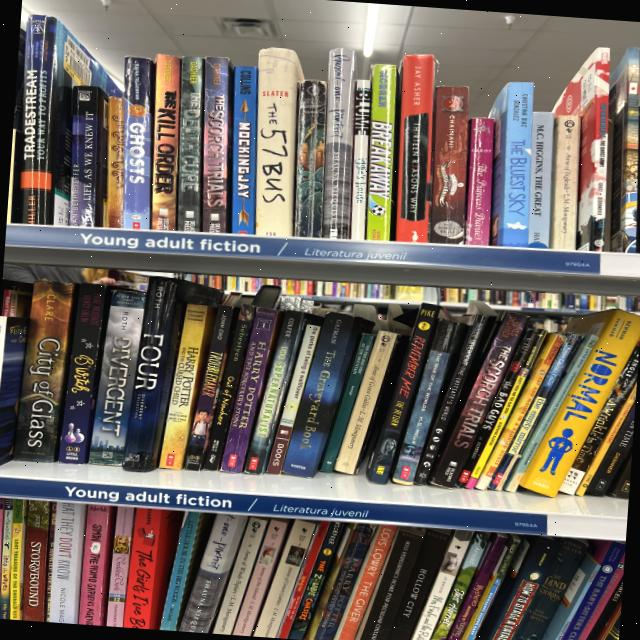book: (509, 299, 640, 505), (428, 304, 530, 495), (42, 21, 127, 229), (501, 331, 599, 494), (486, 330, 583, 493), (471, 329, 566, 494), (455, 326, 547, 491), (363, 300, 443, 487), (278, 309, 364, 482), (234, 308, 316, 477), (411, 313, 490, 488), (556, 341, 640, 498), (552, 47, 616, 252), (390, 318, 462, 488), (121, 276, 181, 474), (13, 280, 77, 464), (215, 306, 284, 476), (153, 302, 218, 472), (248, 47, 305, 237), (88, 289, 147, 467), (471, 527, 563, 640), (43, 18, 93, 225), (56, 282, 111, 466), (181, 303, 240, 473), (371, 518, 453, 640), (333, 327, 399, 477), (200, 302, 257, 472), (348, 332, 413, 478), (178, 507, 249, 639), (18, 15, 61, 225), (264, 321, 322, 476), (511, 533, 589, 640), (118, 505, 183, 632), (252, 515, 318, 640), (319, 331, 376, 474), (485, 81, 534, 247), (311, 519, 377, 640), (282, 516, 346, 640), (334, 520, 399, 640), (209, 513, 271, 638), (395, 54, 436, 242), (230, 515, 290, 639), (576, 384, 640, 500), (410, 525, 474, 640), (444, 530, 510, 640), (559, 538, 629, 640), (429, 529, 493, 640), (428, 85, 472, 244), (275, 518, 332, 640), (321, 47, 357, 239), (302, 519, 358, 640), (158, 509, 210, 634), (462, 532, 522, 640), (365, 63, 399, 241), (121, 57, 155, 229), (69, 86, 109, 227), (150, 55, 182, 230), (293, 80, 328, 237), (540, 553, 603, 640), (202, 57, 233, 233), (584, 406, 640, 502), (344, 78, 377, 240), (228, 67, 259, 235), (47, 502, 88, 624), (177, 57, 204, 231), (61, 90, 95, 227), (77, 504, 115, 626), (0, 317, 29, 465), (464, 117, 495, 246), (104, 506, 136, 627), (21, 500, 51, 621), (528, 111, 554, 248), (492, 575, 541, 640), (105, 97, 126, 228), (91, 90, 110, 227), (8, 500, 27, 620), (42, 502, 58, 621), (0, 499, 13, 618), (607, 454, 631, 499), (0, 499, 4, 596), (636, 173, 639, 253)
